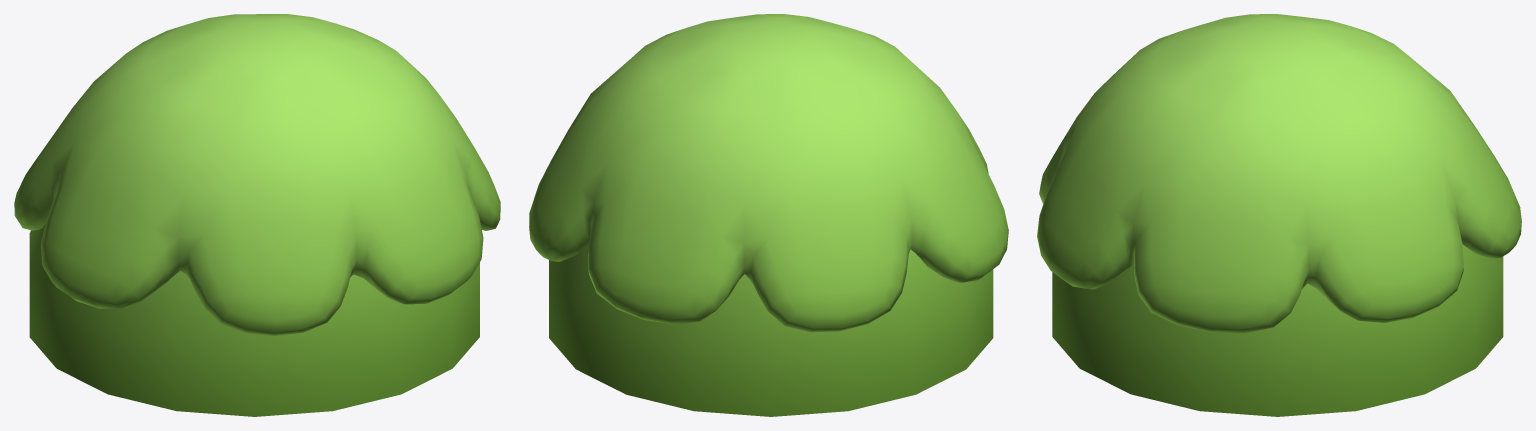
The model's file is bush_1.fbx.
The picture shows the model from 3 angles, left to right: view 1: azimuth 30°, elevation 25°; view 2: azimuth 150°, elevation 25°; view 3: azimuth 270°, elevation 25°; orthographic projection.
Parts seen in each view (by area): view 1: bush_1; view 2: bush_1; view 3: bush_1.
Boxes of the visible parts, left/top/right/bottom form: bush_1: left=14, top=14, right=500, bottom=416; bush_1: left=529, top=14, right=1008, bottom=416; bush_1: left=1037, top=14, right=1521, bottom=416.
Bounding box in the file's own units: 59.94 × 38.68 × 59.57.
Materials: 1 (1 with a texture image).
